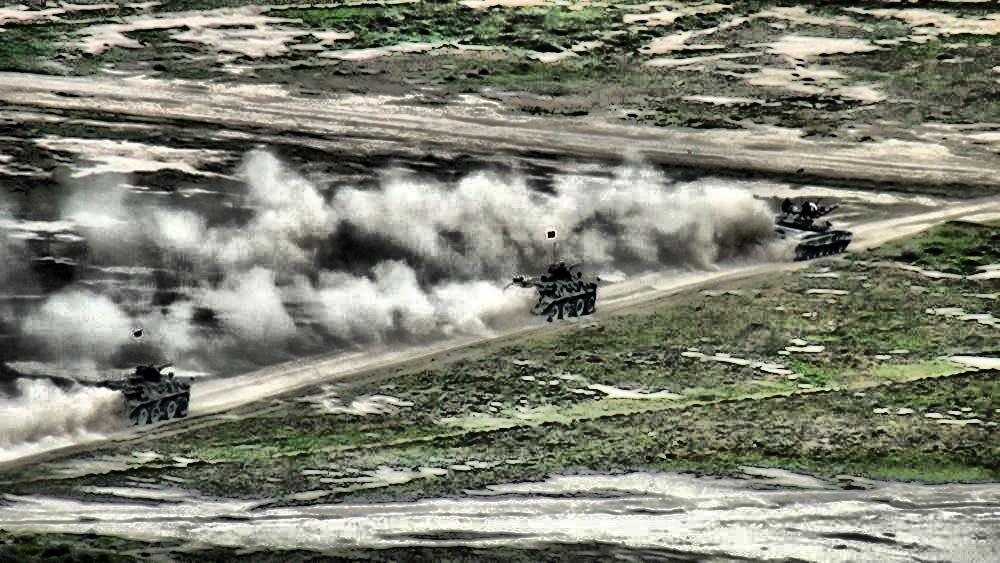military-vehicle: (78, 364, 197, 425), (497, 261, 599, 325), (755, 201, 859, 261)
